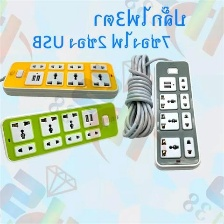three_eye_plug: (0, 100, 122, 163), (151, 56, 203, 171), (0, 59, 121, 101)
